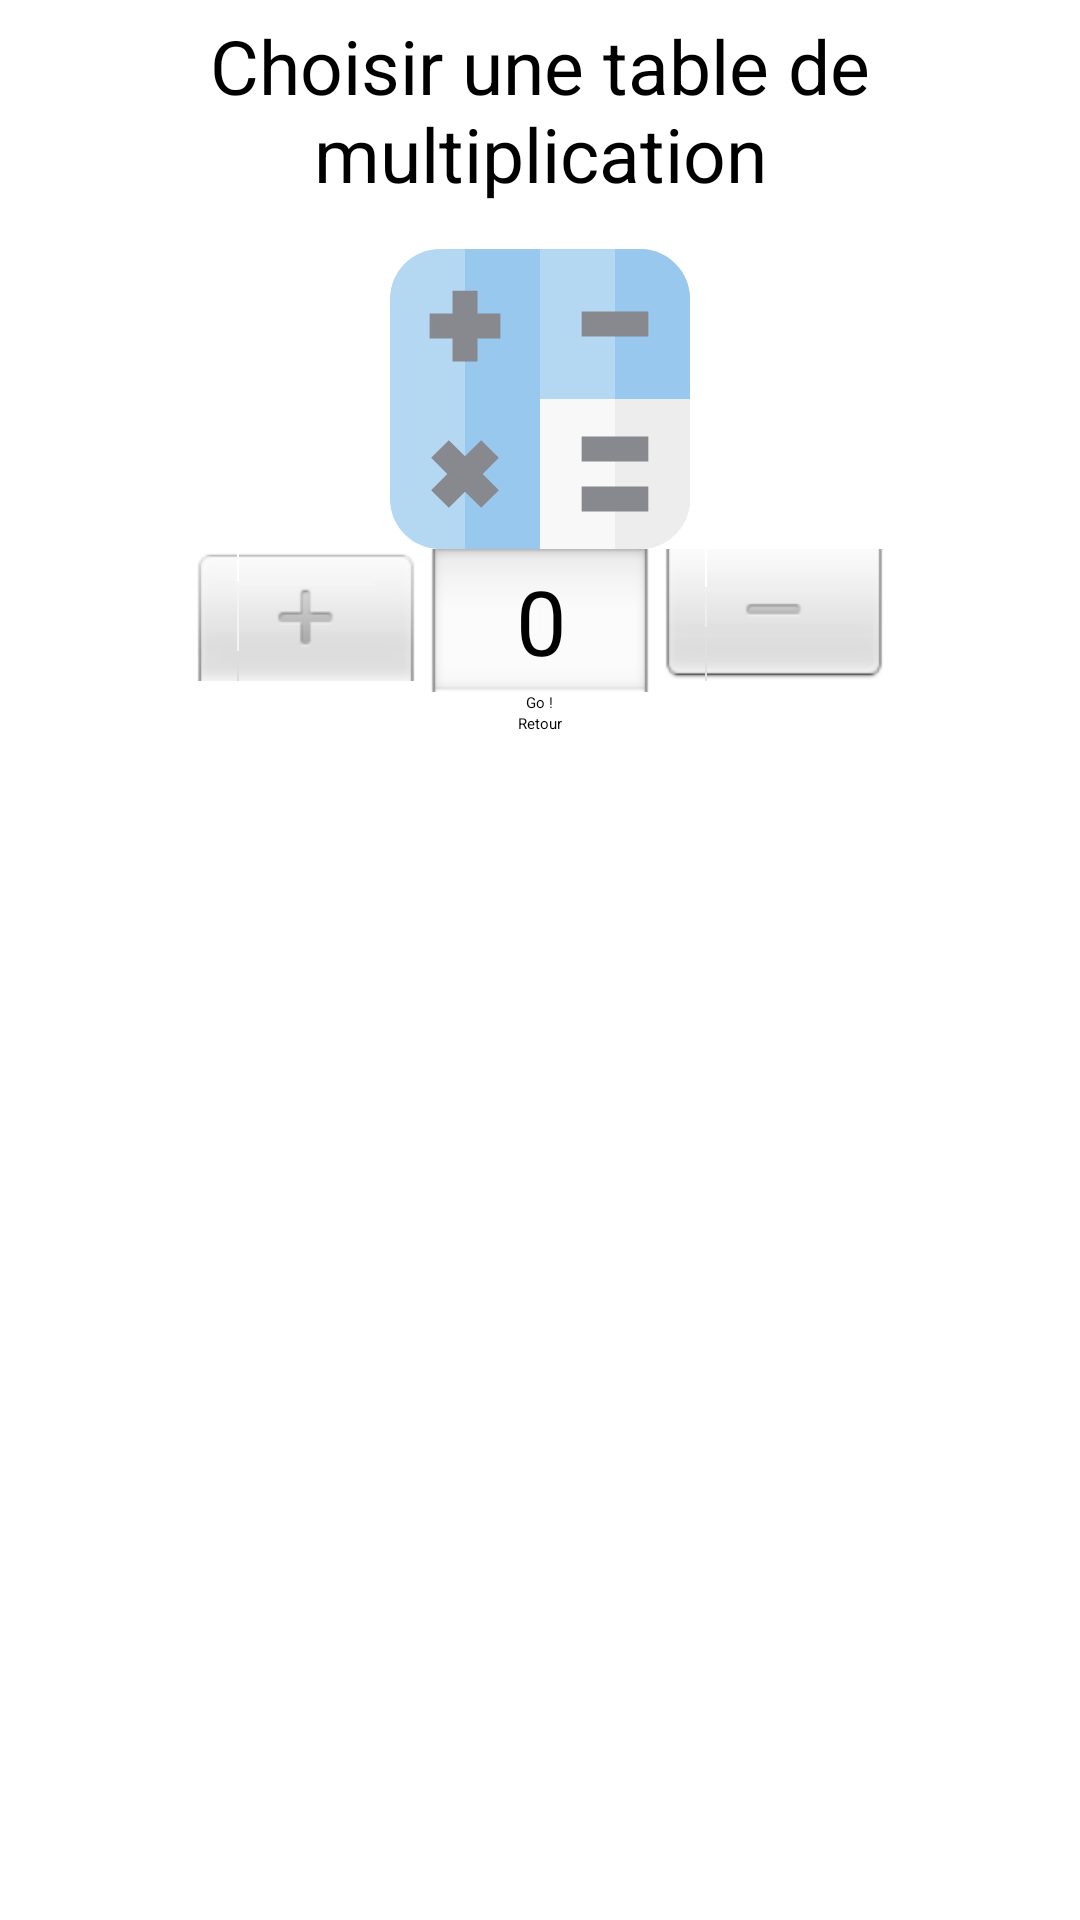

Where to tap for icons on this 1080×1920 app screen, as (x=x, y=y):
maths operations: (x=540, y=399)
